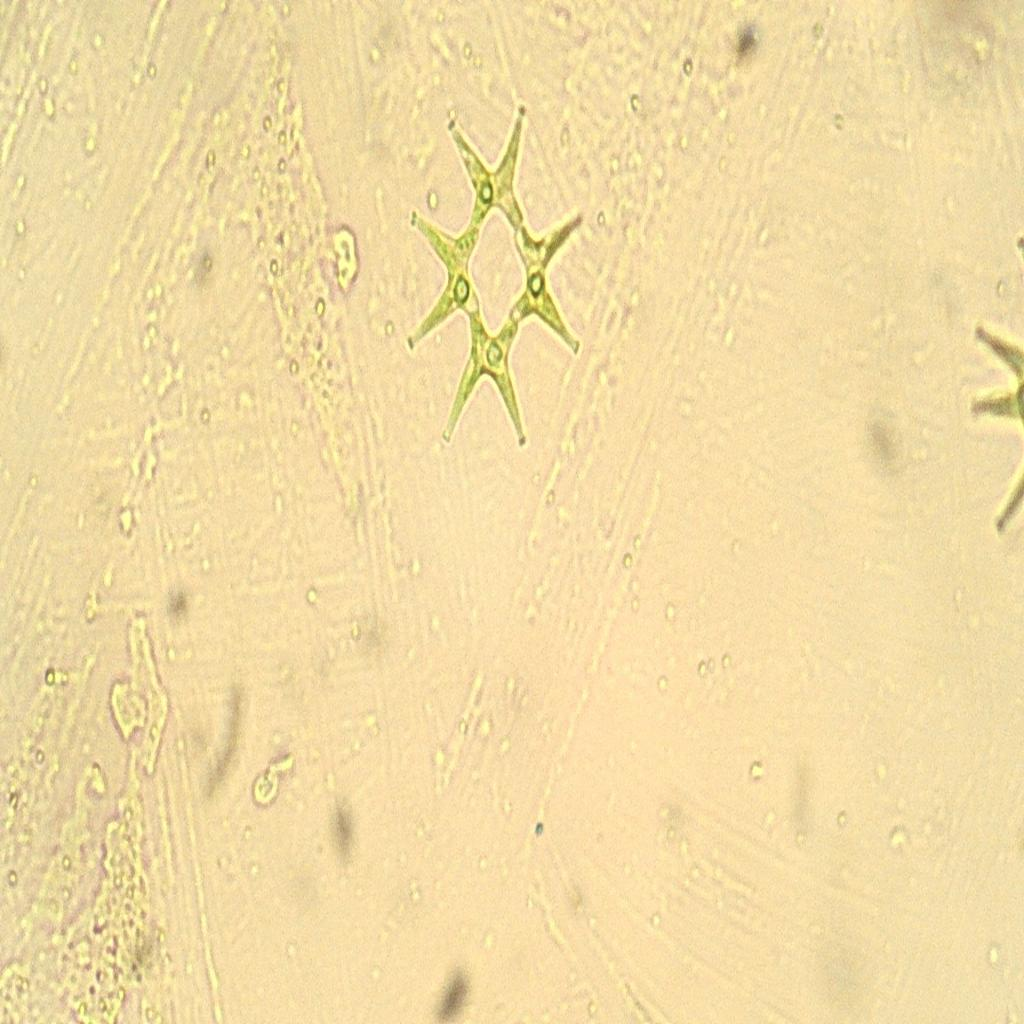Pediastrum_CO: (398, 75, 591, 497)
